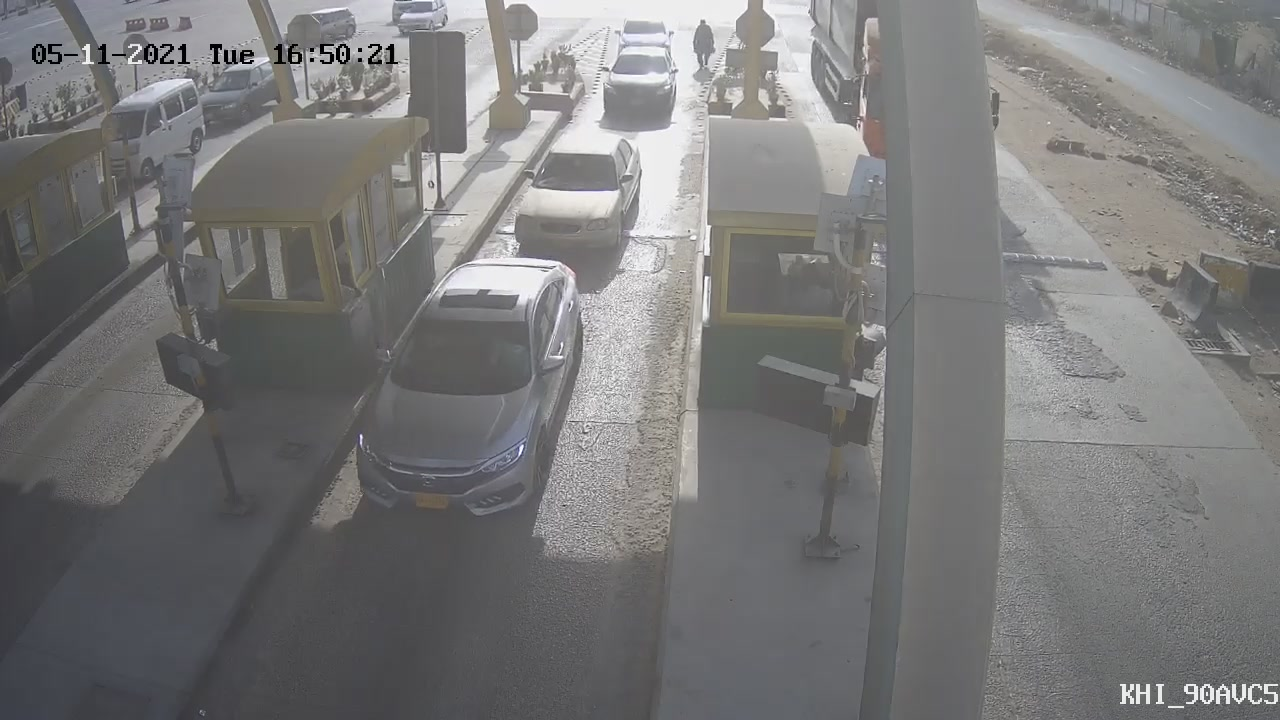F1: (325, 239, 604, 548), (499, 117, 659, 264)
